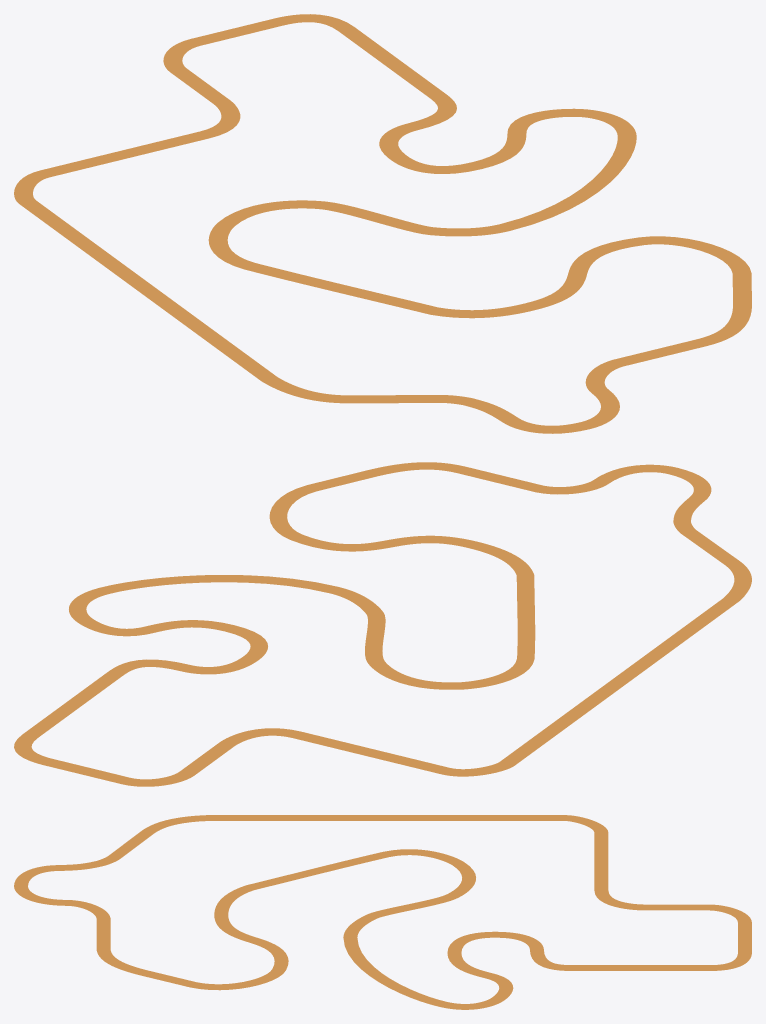
File: track.glb
3 views of the same model, one above another, from view 1: azimuth 30°, elevation 25°; view 2: azimuth 150°, elevation 25°; view 3: azimuth 270°, elevation 25° (orthographic). The views are drawn at different scales.
Parts seen in each view (by area): view 1: Track; view 2: Track; view 3: Track.
Part boxes in pixels (left/top/right/bottom): Track: left=14, top=14, right=751, bottom=433; Track: left=14, top=462, right=751, bottom=786; Track: left=14, top=815, right=751, bottom=1009.
Size of the model in its own units: 64.26 by 0 by 103.
